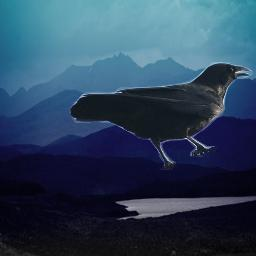Crow: (69, 62, 253, 170)
